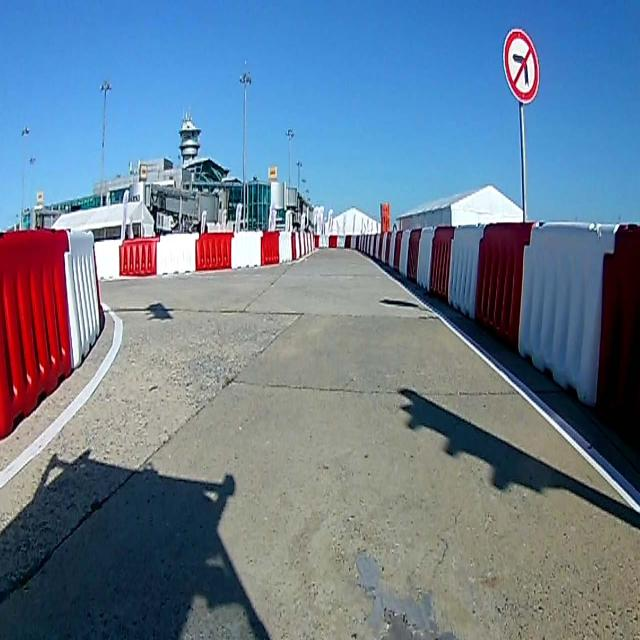soladonulmez: (504, 30, 538, 102)
